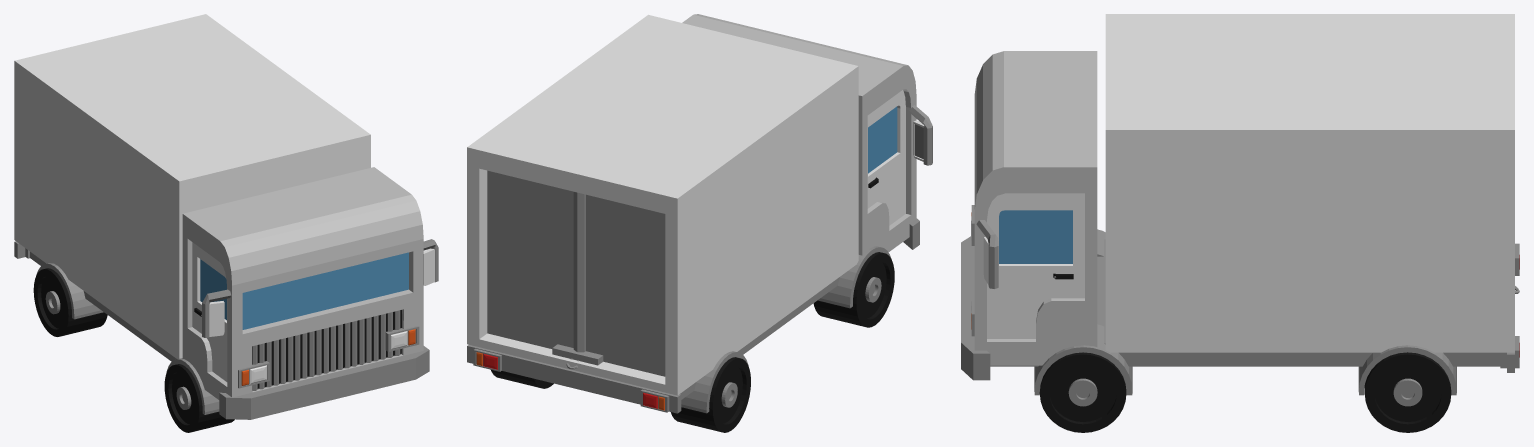
The model's file is Truck (1).fbx.
3 renders of one model, left to right at view 1: azimuth 30°, elevation 25°; view 2: azimuth 150°, elevation 25°; view 3: azimuth 270°, elevation 25°, orthographic. The views are drawn at different scales.
Parts seen in each view (by area): view 1: Cube, Cube.001, Cube.004, Cylinder.003, Cylinder.002, Cube.005, Cylinder, Cube.008, Cube.002; view 2: Cube, Cube.010, Cube.001, Cylinder.002, Cube.003, Cylinder, Cube.007, Cube.005, Cube.002; view 3: Cube, Cube.001, Cylinder.002, Cube.002, Cylinder, Cube.004, Cube.005.
Part boxes in pixels (bbox=[...]): Cube: bbox=[14, 14, 370, 359]; Cube.001: bbox=[182, 167, 423, 399]; Cube.004: bbox=[219, 346, 429, 419]; Cylinder.003: bbox=[252, 309, 402, 390]; Cylinder.002: bbox=[33, 268, 234, 432]; Cube.005: bbox=[202, 239, 438, 337]; Cylinder: bbox=[36, 263, 219, 414]; Cube.008: bbox=[238, 326, 419, 388]; Cube.002: bbox=[30, 251, 401, 389]; Cube: bbox=[467, 14, 858, 395]; Cube.010: bbox=[487, 170, 665, 376]; Cube.001: bbox=[682, 14, 916, 255]; Cylinder.002: bbox=[491, 252, 894, 432]; Cube.003: bbox=[467, 345, 681, 413]; Cylinder: bbox=[681, 246, 891, 413]; Cube.007: bbox=[473, 348, 669, 412]; Cube.005: bbox=[909, 105, 932, 165]; Cube.002: bbox=[680, 277, 839, 399]; Cube: bbox=[1105, 14, 1514, 352]; Cube.001: bbox=[974, 51, 1097, 365]; Cylinder.002: bbox=[1039, 352, 1451, 432]; Cube.002: bbox=[990, 239, 1500, 366]; Cylinder: bbox=[1034, 229, 1456, 395]; Cube.004: bbox=[961, 236, 990, 380]; Cube.005: bbox=[976, 220, 998, 288].
Size of the model in its own units: 825 by 806 by 1365.
